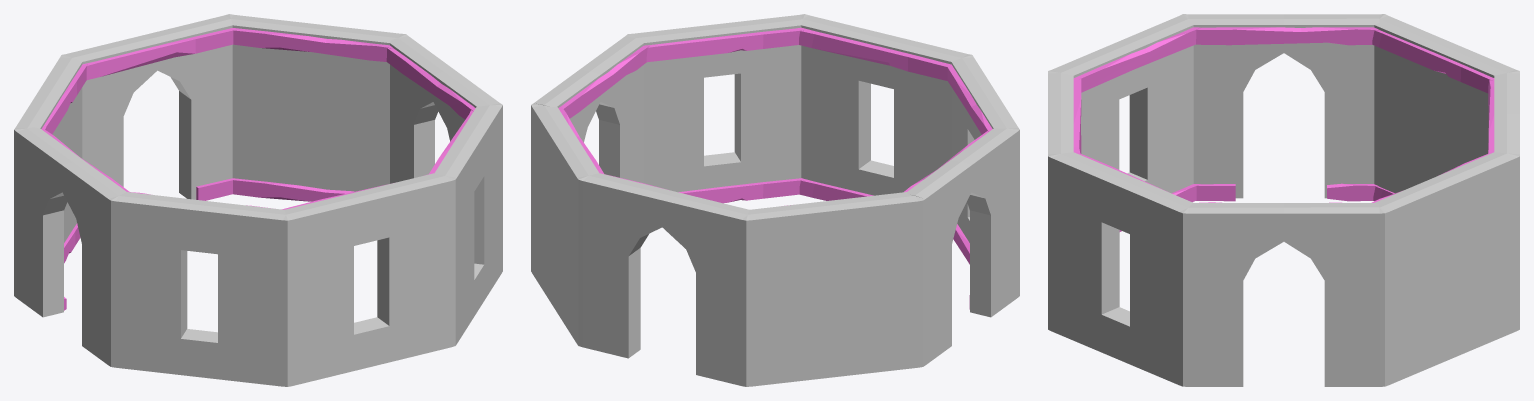
File: SM_Tower_Round_7m_Entrance_T_Fantasy_Base.fbx
The picture shows the model from 3 angles, left to right: view 1: azimuth 30°, elevation 25°; view 2: azimuth 150°, elevation 25°; view 3: azimuth 270°, elevation 25°; orthographic projection. The views are drawn at different scales.
Visible parts, largest first — view 1: SM_Tower_Round_7m_Entrance_T_Fantasy_Base; view 2: SM_Tower_Round_7m_Entrance_T_Fantasy_Base; view 3: SM_Tower_Round_7m_Entrance_T_Fantasy_Base.
Part boxes in pixels (x1,y1,x2,y2): SM_Tower_Round_7m_Entrance_T_Fantasy_Base: (14, 14, 502, 386); SM_Tower_Round_7m_Entrance_T_Fantasy_Base: (531, 14, 1019, 386); SM_Tower_Round_7m_Entrance_T_Fantasy_Base: (1048, 14, 1519, 386).
Bounding box in the file's own units: 7.4 × 3.03 × 7.4.
